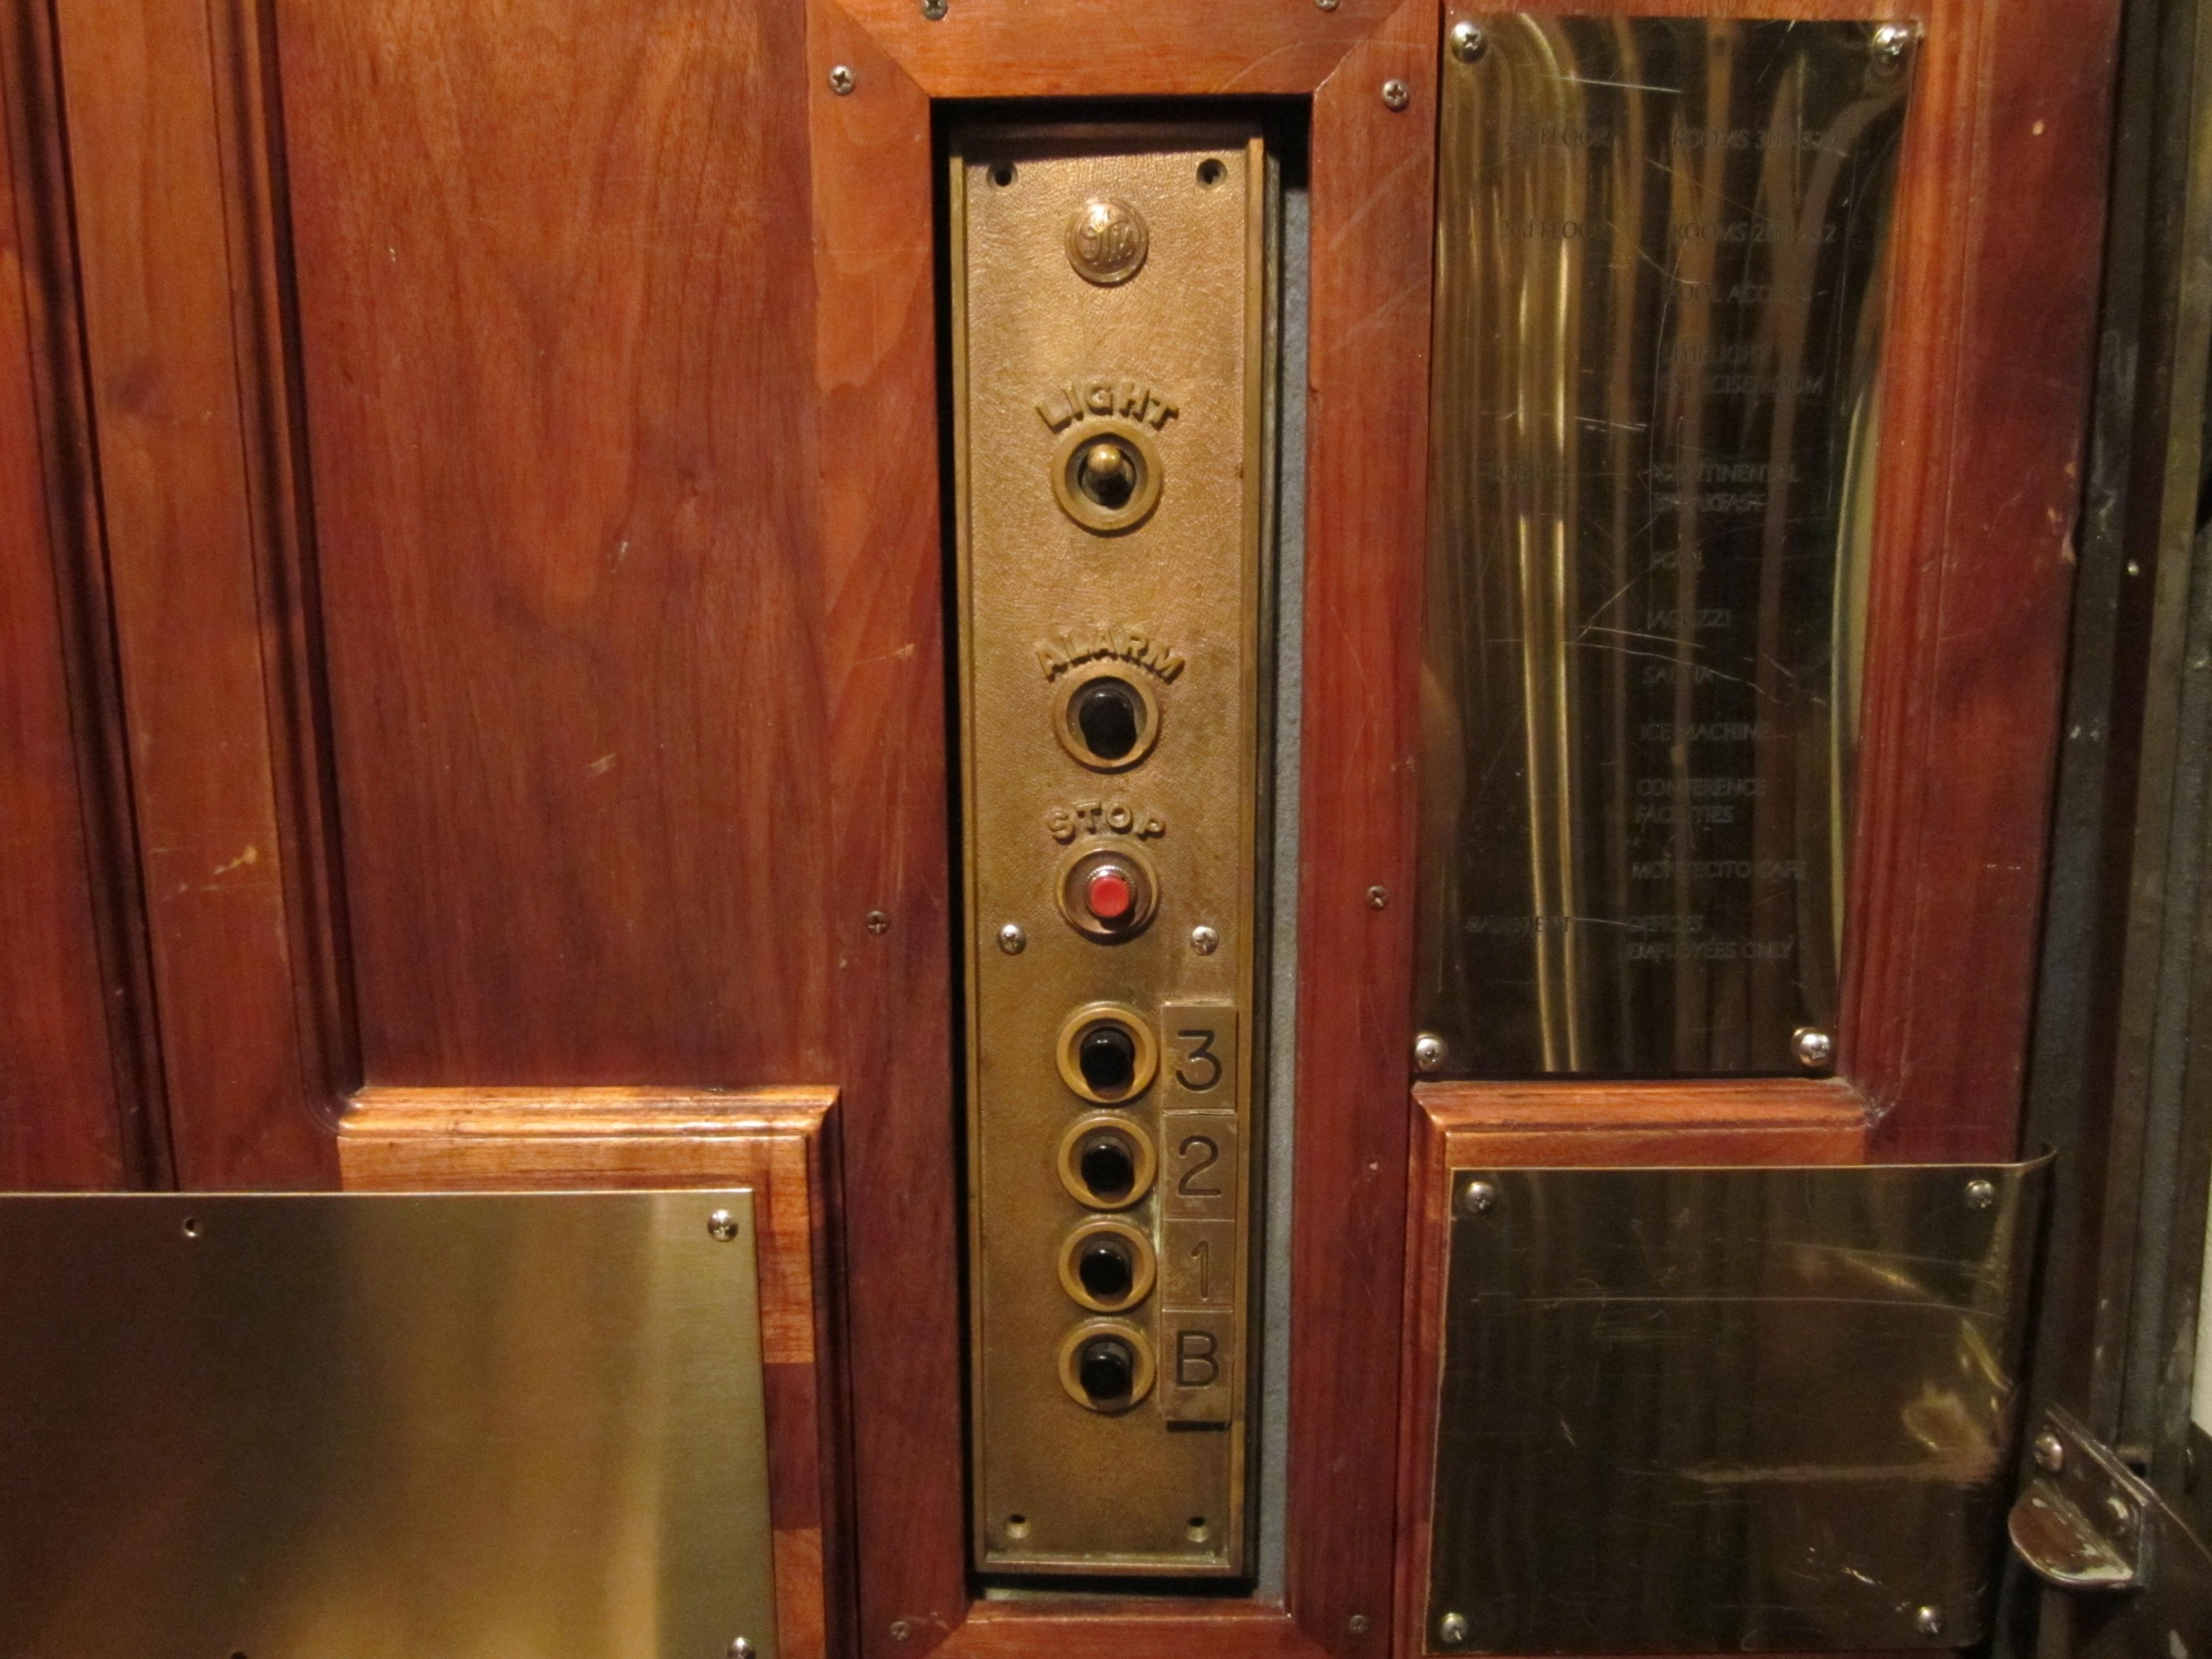1: (1155, 1209, 1251, 1328)
2: (1153, 1100, 1245, 1234)
3: (1153, 988, 1245, 1121)
B: (1150, 1312, 1245, 1431)
bt_switch: (1043, 411, 1176, 537)
indicator: (1045, 831, 1183, 951), (1040, 659, 1174, 775), (1057, 999, 1160, 1103), (1054, 1108, 1158, 1211), (1054, 1310, 1153, 1419), (1057, 1211, 1160, 1310)
